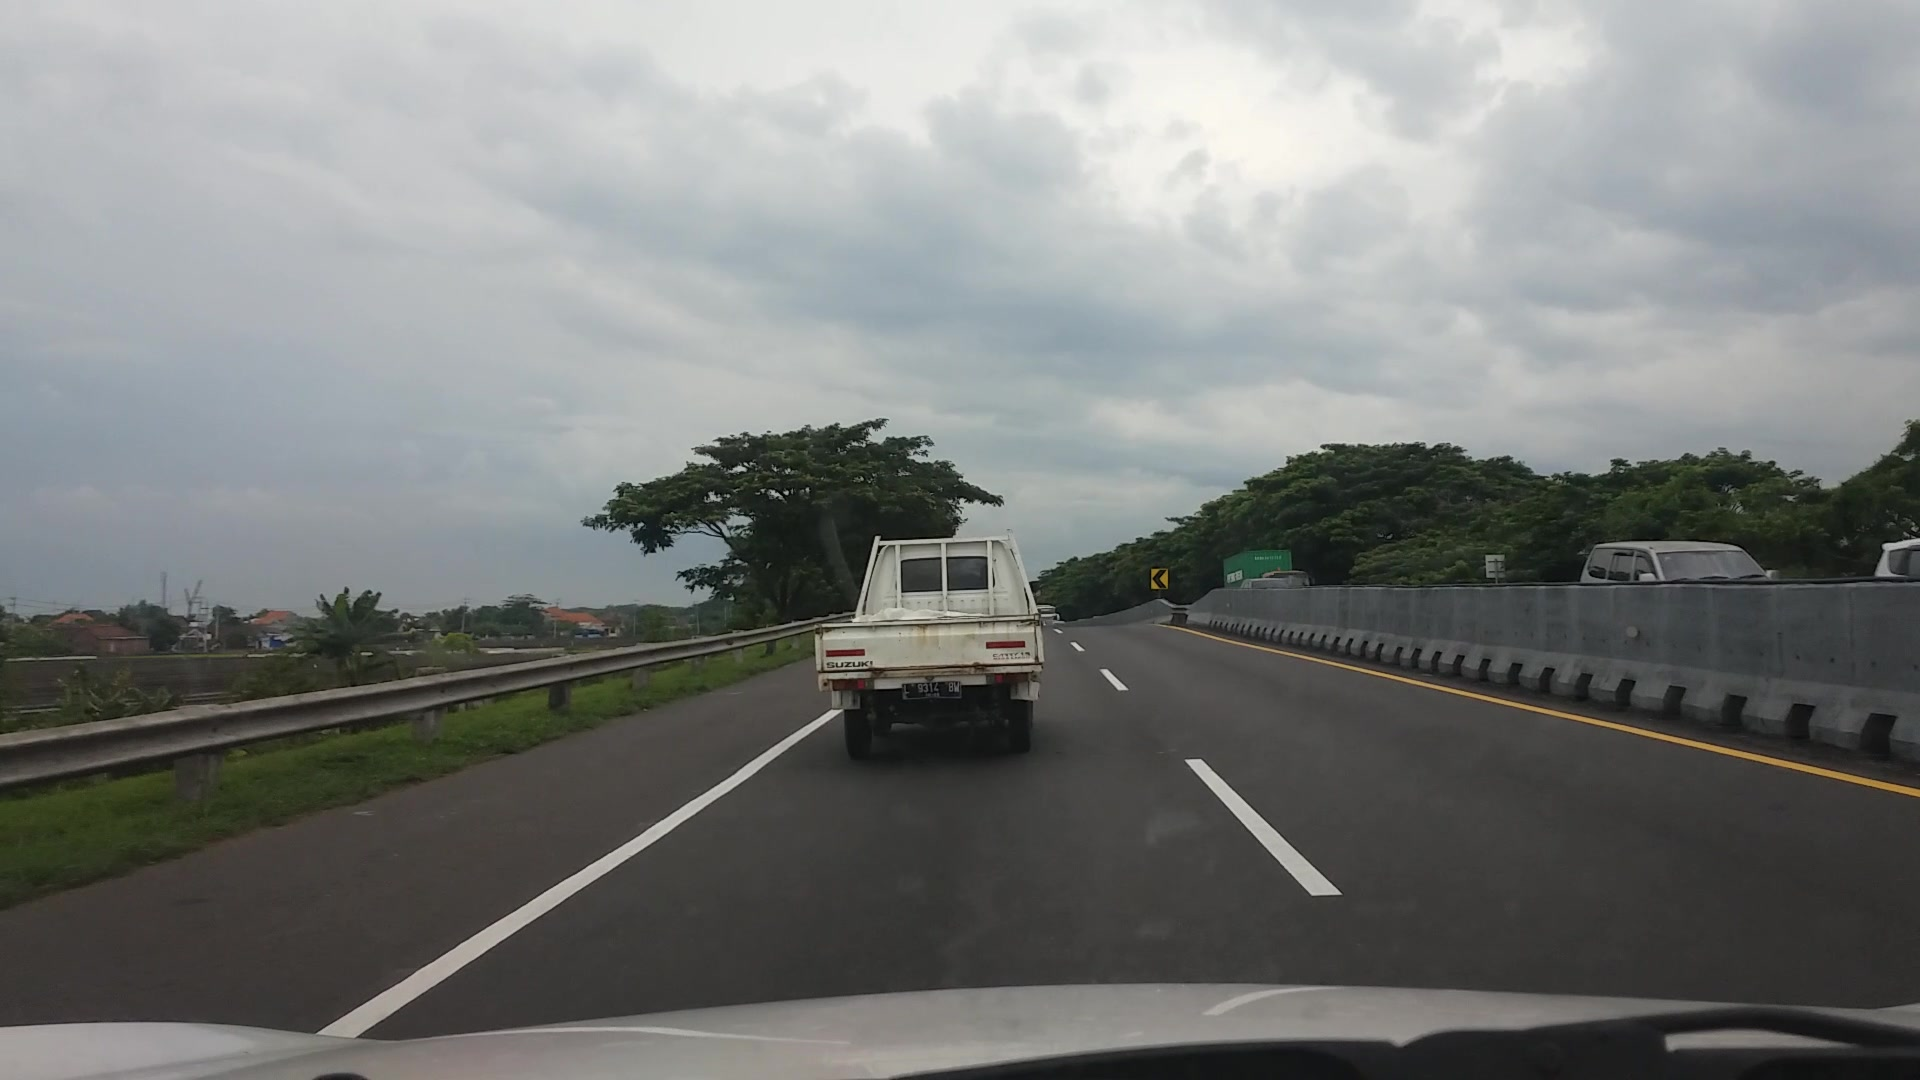plate_positive: (902, 680, 963, 700)
